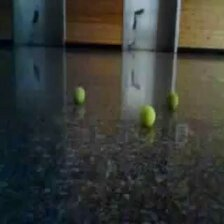tennis: (138, 105, 156, 129), (165, 93, 179, 111), (74, 86, 85, 105)
